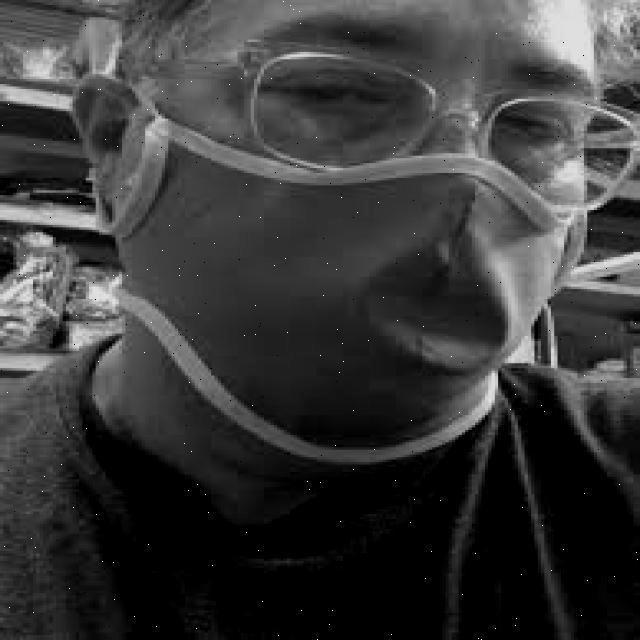fake: (135, 154, 583, 493)
real: (149, 0, 601, 467)
